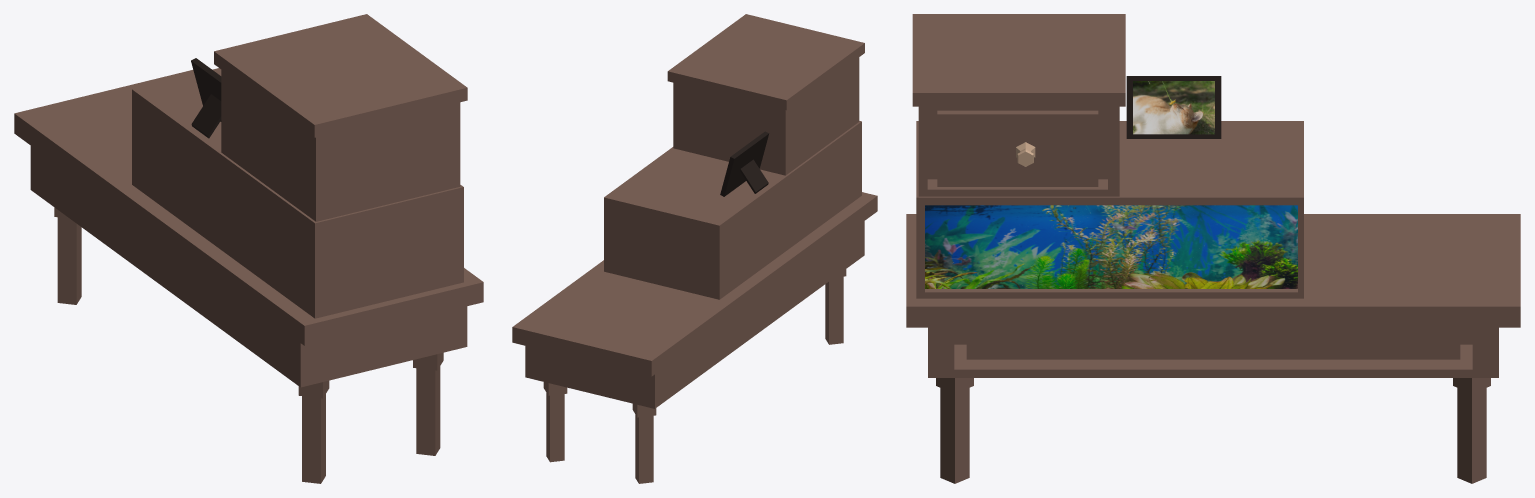
The model's file is FISHTANK.fbx.
3 views of the same model, side by side, from view 1: azimuth 30°, elevation 25°; view 2: azimuth 150°, elevation 25°; view 3: azimuth 270°, elevation 25° (orthographic). The views are drawn at different scales.
Parts seen in each view (by area): view 1: Plane.011, IMG_7432; view 2: Plane.011, IMG_7432; view 3: Plane.011, IMG_7432.
Boxes of the visible parts, bbox=[...] form: Plane.011: bbox=[14, 14, 483, 483]; IMG_7432: bbox=[191, 58, 221, 138]; Plane.011: bbox=[512, 14, 877, 483]; IMG_7432: bbox=[720, 131, 769, 196]; Plane.011: bbox=[906, 14, 1520, 483]; IMG_7432: bbox=[1126, 76, 1221, 138].
Bounding box in the file's own units: 399 × 794 × 1120.
